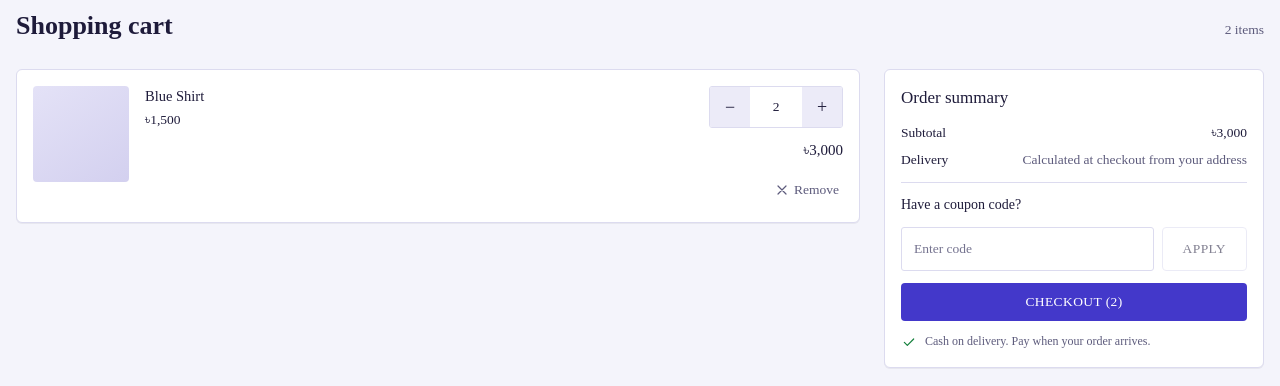
Test: cart promotions › shows FLASH_LIMIT inline on the refused line
The image size is (1280, 386).
Click the button named "Increase quantity".
click(822, 107)  # box 802,87 -> 842,127
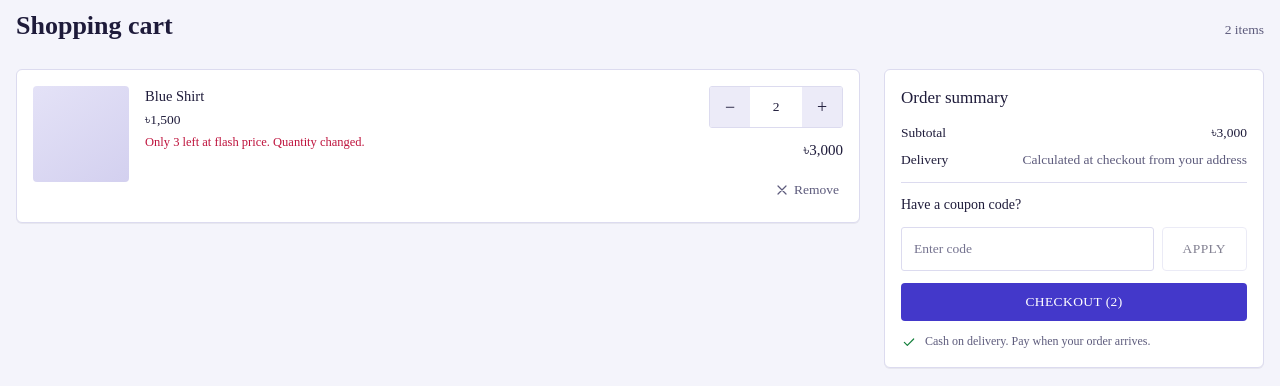
expect the text "Only 3 left at flash price. Quantity changed." is shown: met, box 145,135 -> 365,149
